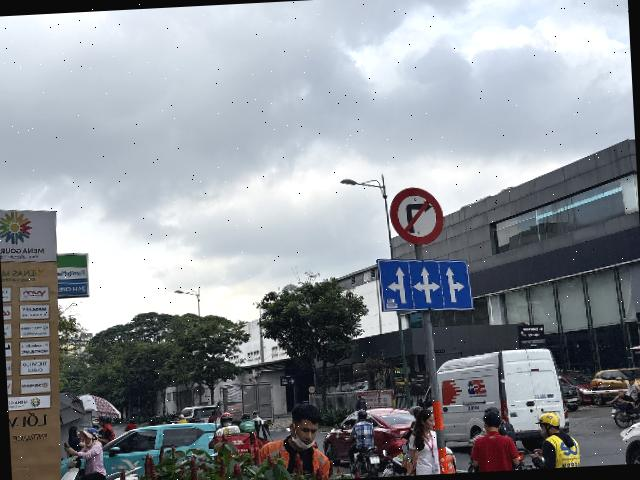cam-re-trai: (388, 184, 446, 246)
